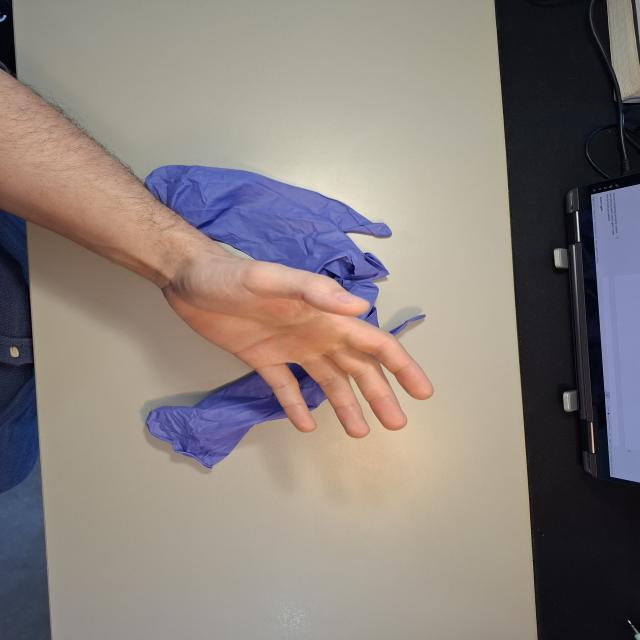glove_off: (148, 250, 436, 440)
